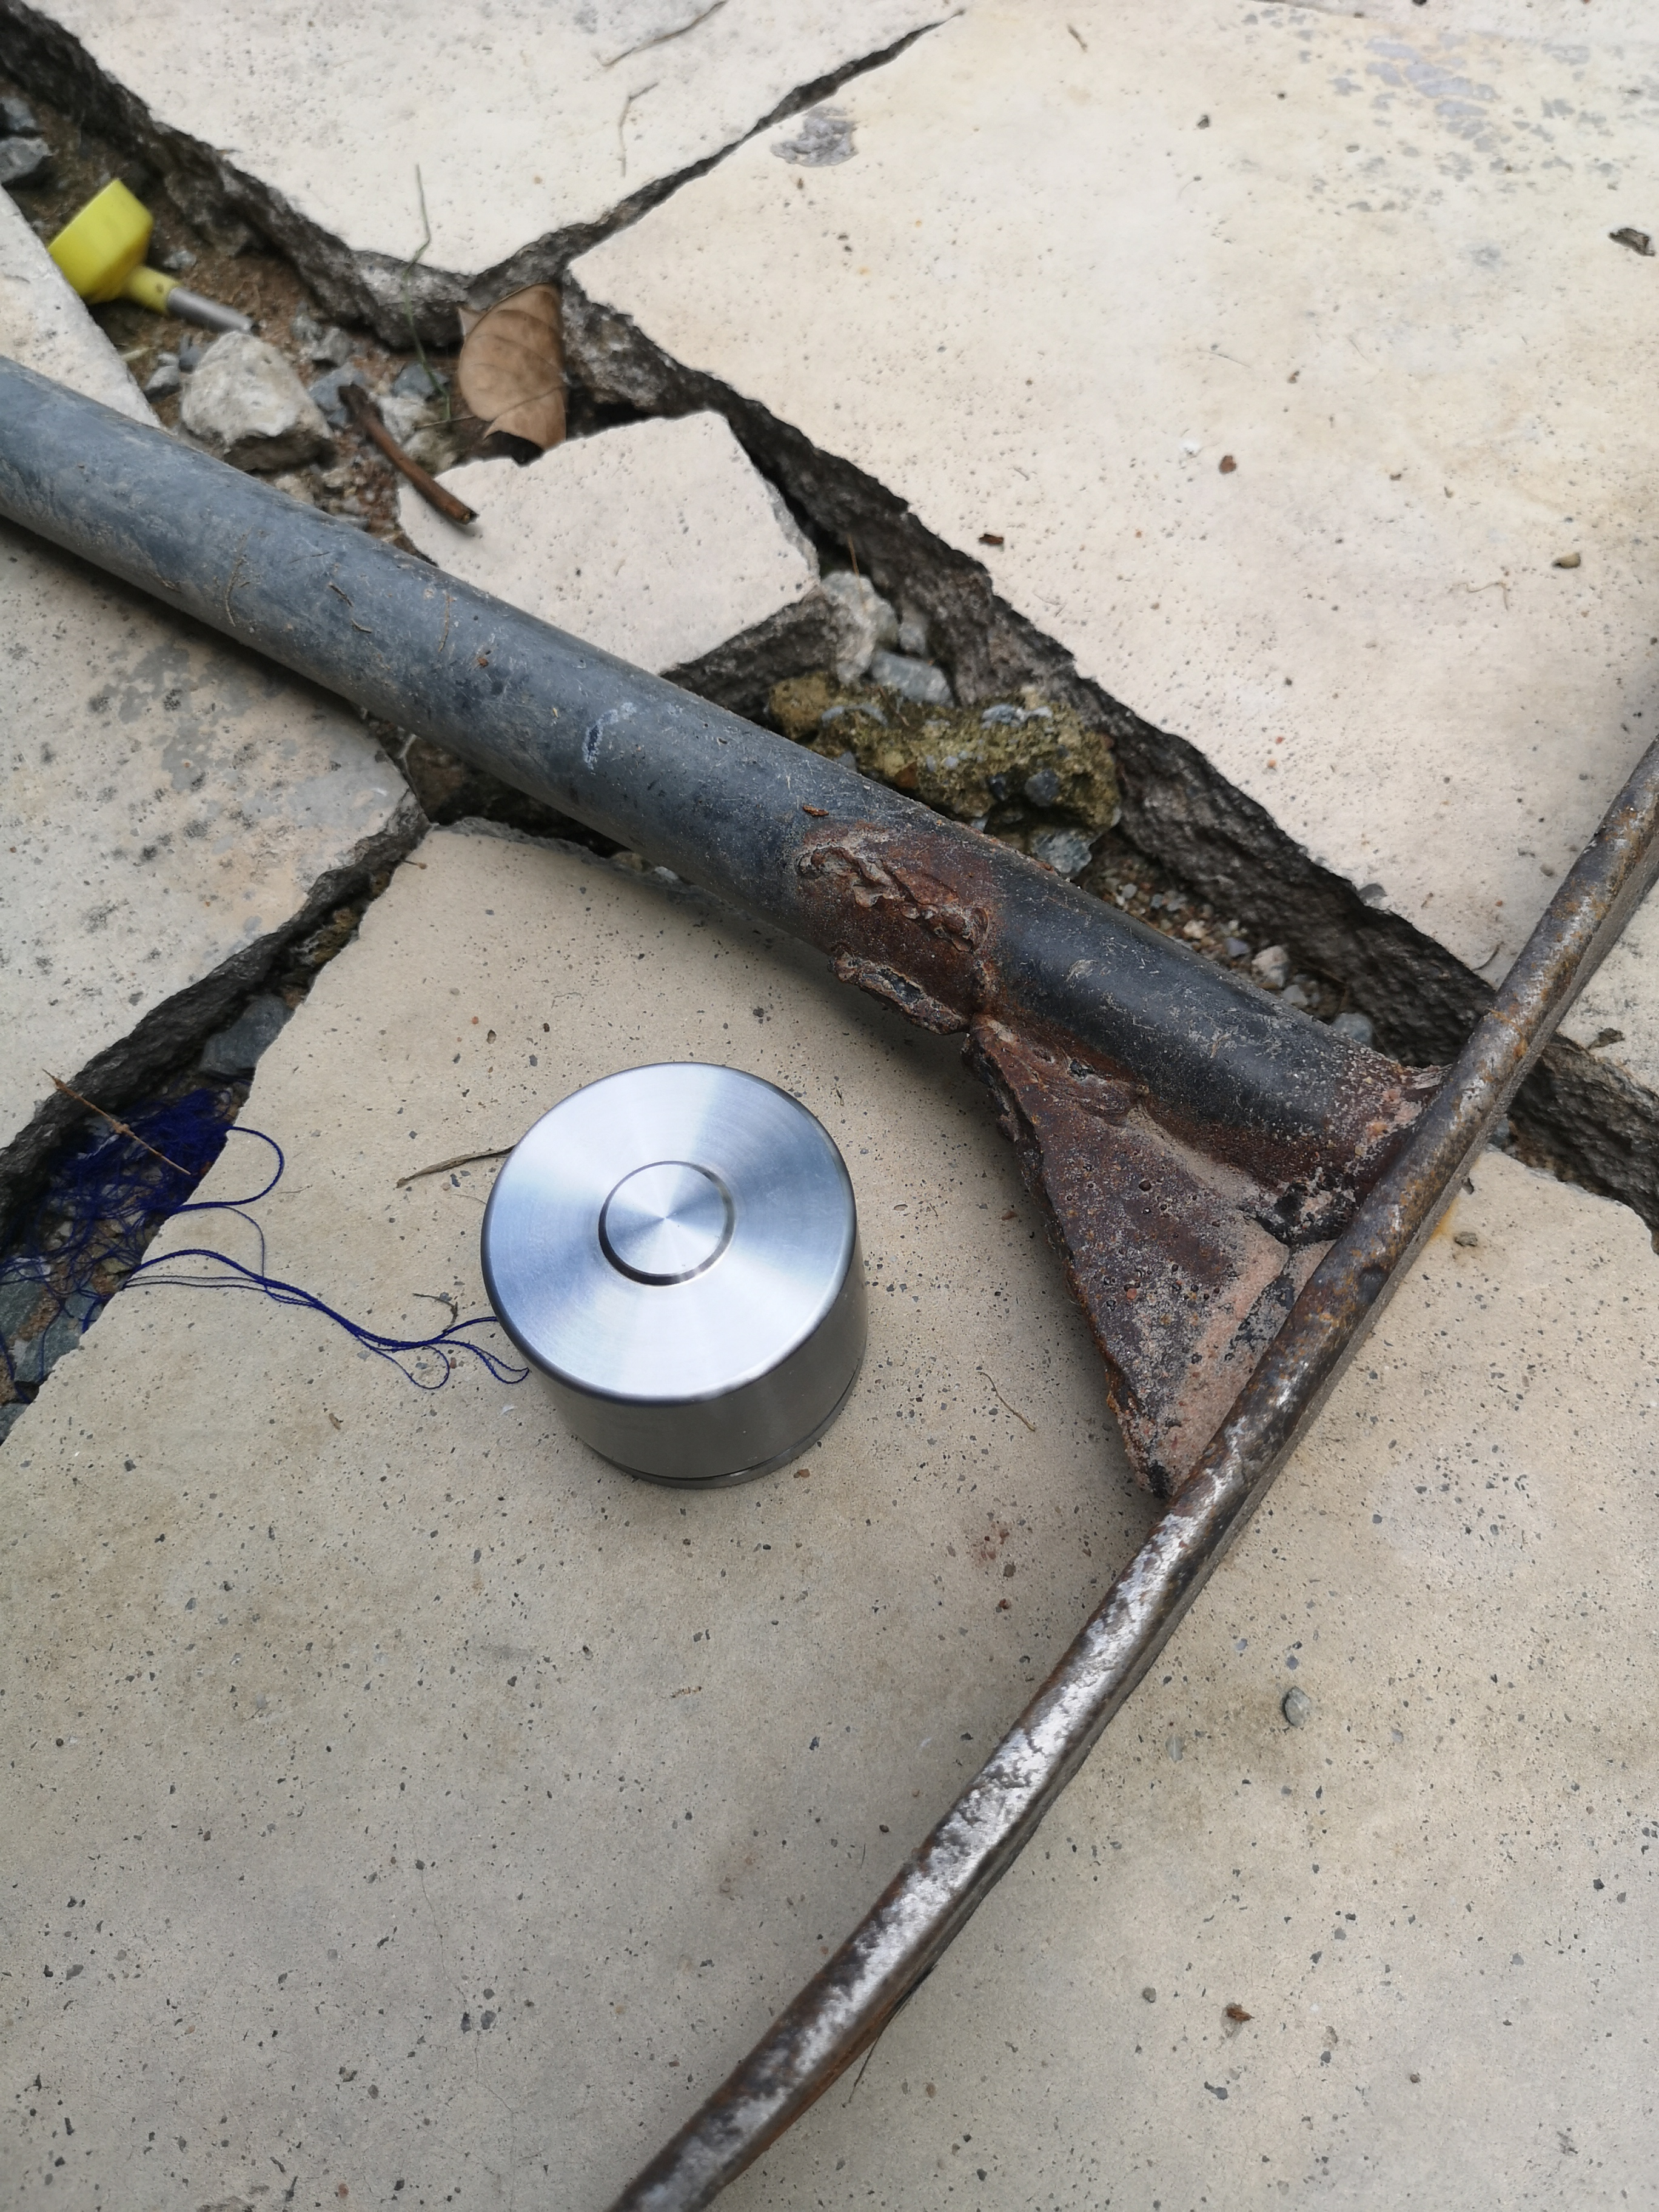ลูกสูบดิสเบรค: (448, 1038, 918, 1508)
